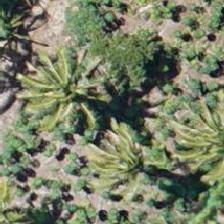coconut_tree: (90, 126, 180, 216), (20, 48, 110, 138), (0, 173, 47, 223)
